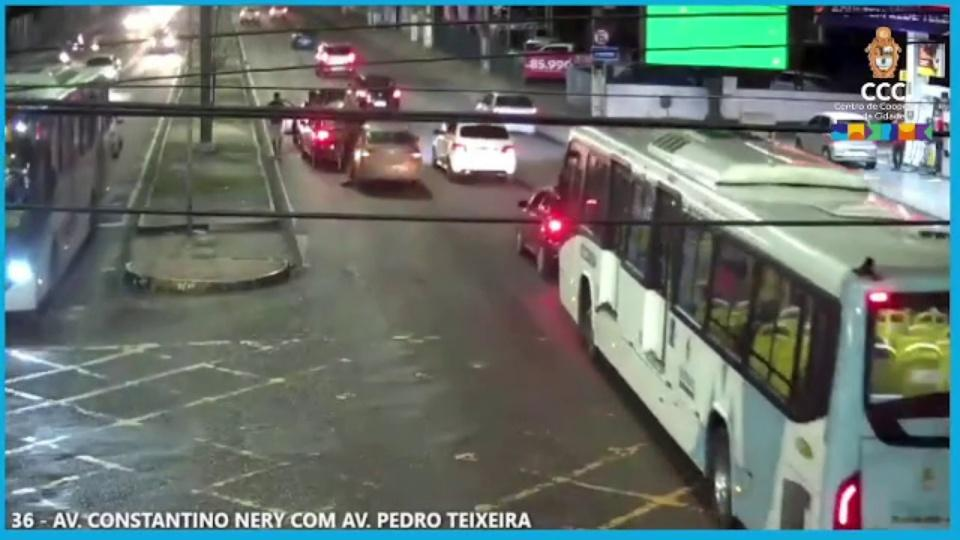car: (428, 115, 521, 185), (348, 125, 425, 192), (295, 109, 356, 167), (311, 39, 355, 81)
truck: (552, 120, 949, 528), (2, 57, 110, 317)
